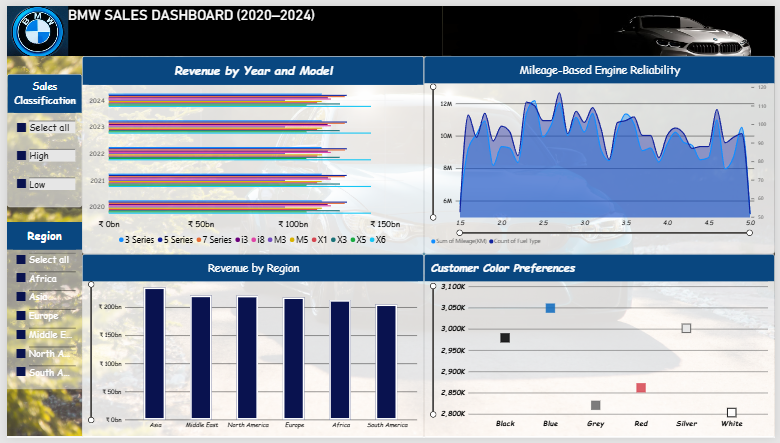

Layout of this report page (visuals, bound fields, positions):
{"tool":"powerbi","page":{"name":"Dashboard3","canvas":[1920,1080],"ordinal":15},"visuals":[{"type":"image","box":[1090.8,0,829.4,125.3],"z":0},{"type":"textbox","title":"BMW SALES DASHBOARD (2020–2024)","box":[153.4,0,937.4,125.3],"z":1000},{"type":"image","box":[0,0,152.5,125],"z":2000},{"type":"areaChart","title":"Mileage-Based Engine Reliability","fields":{"Category":["Order details.Engine Size"],"Y":["Sum(Order details.Mileage(KM))"],"Y2":["CountNonNull(Order details.Fuel Type)"]},"box":[1043.3,125.3,877,494.6],"z":3000},{"type":"scatterChart","title":"Customer Color Preferences","fields":{"X":["Order details.Colour"],"Y":["Sum(Order details.Sales_Volume)"]},"box":[1043.3,619.9,877,460.1],"z":4000},{"type":"columnChart","title":"Revenue by Region","fields":{"Category":["Order details.Region"],"Y":["Sum(Order details.Revenue)"]},"box":[187.9,619.9,855.4,460.1],"z":5000},{"type":"slicer","title":"Sales Classification","fields":{"Values":["Order details.Sales_Classification"]},"box":[0,170,187.5,332.5],"z":6000},{"type":"slicer","title":"Region","fields":{"Values":["Order details.Region"]},"box":[0,540,187.5,417.5],"z":7000},{"type":"clusteredBarChart","title":"Revenue by Year and Model","fields":{"Category":["Product details.Year"],"Series":["Order details.Model"],"Y":["Sum(Order details.Revenue)"]},"box":[187.9,125.3,855.4,494.6],"z":8000}]}

Visuals, with their boxes in screenshot pixels (x1, y1, x2, y2), scaled from the page's 1920x1080 canvas onto the 780x443 screenshot:
image: <box>443,0,779,51</box>
"BMW SALES DASHBOARD (2020–2024)" textbox: <box>62,0,443,51</box>
image: <box>0,0,62,51</box>
"Mileage-Based Engine Reliability" areaChart: <box>424,51,779,254</box>
"Customer Color Preferences" scatterChart: <box>424,254,779,442</box>
"Revenue by Region" columnChart: <box>76,254,424,442</box>
"Sales Classification" slicer: <box>0,70,76,206</box>
"Region" slicer: <box>0,222,76,393</box>
"Revenue by Year and Model" clusteredBarChart: <box>76,51,424,254</box>
